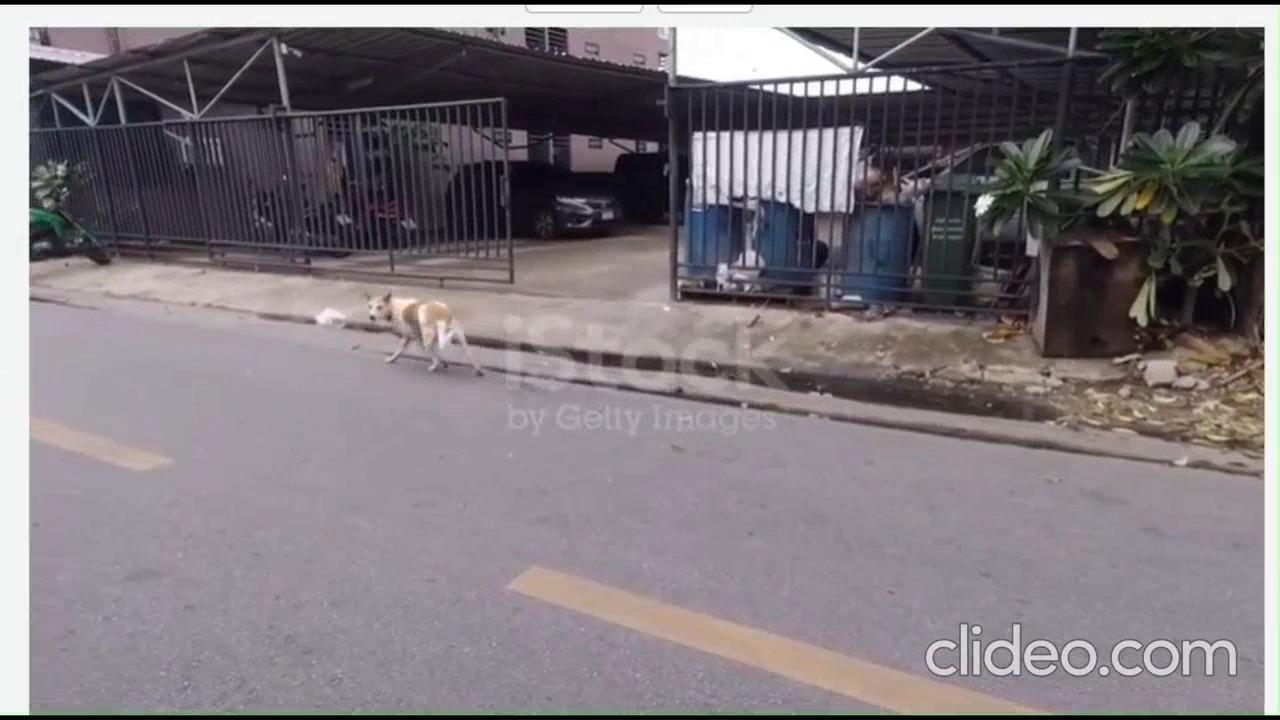dog: (353, 285, 481, 381)
